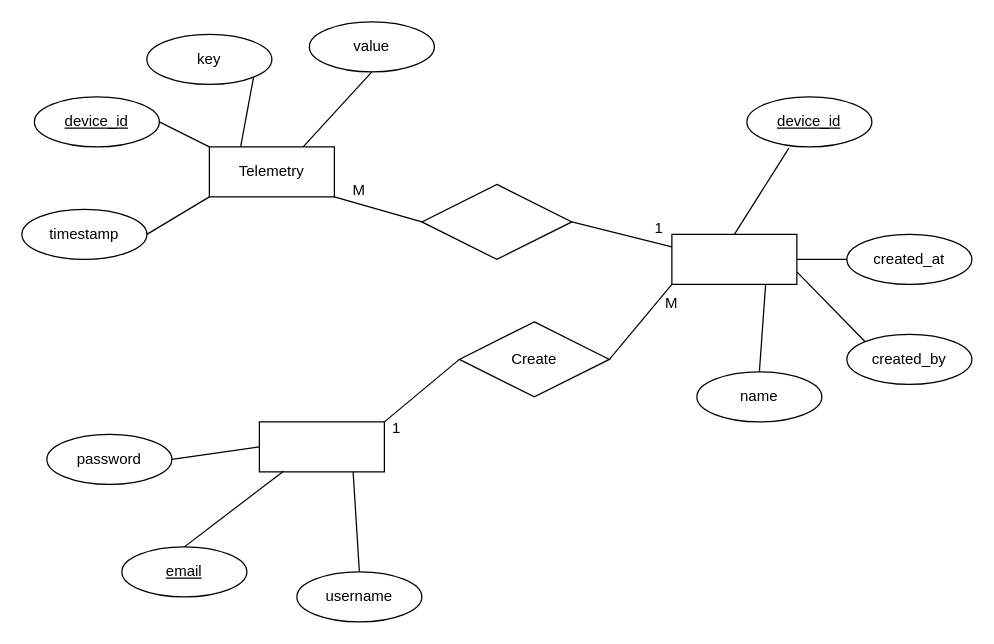
Image size: 994x644. Some labels were removed from this diagram. The box of each missing label's shape, as (x1, y1, x2, y2) in pixels:
Device: (671, 233, 797, 284)
Send: (421, 183, 572, 259)
User: (258, 421, 384, 472)
